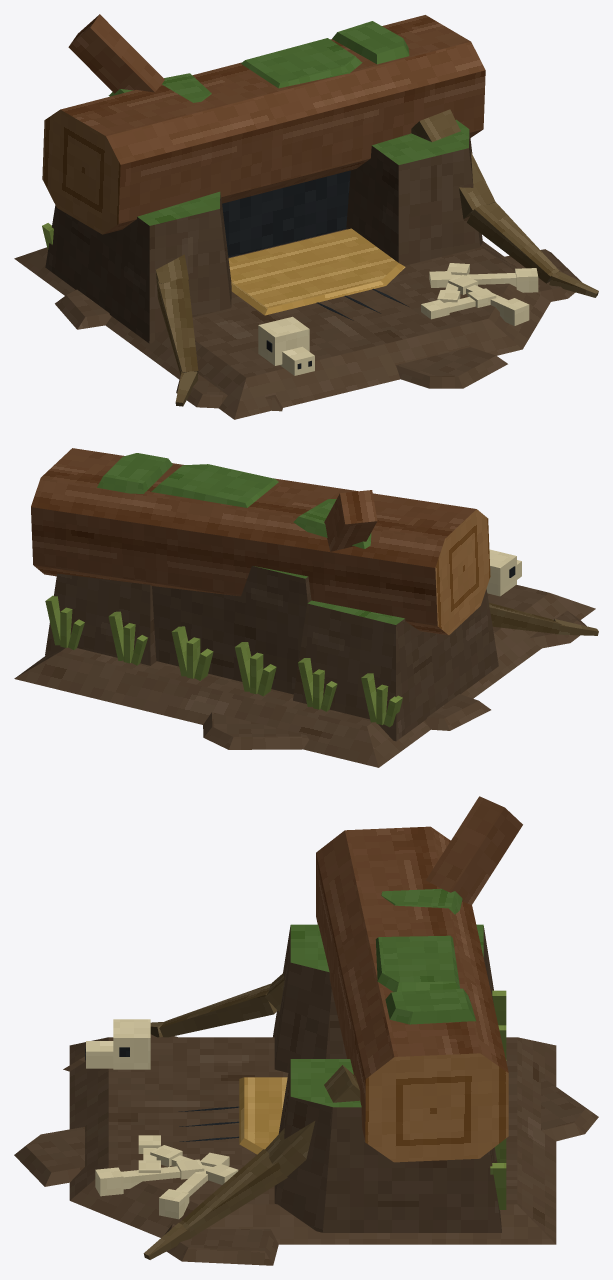
The model's file is worg_lair_v2.glb.
3 renders of one model, top to bottom at view 1: azimuth 30°, elevation 25°; view 2: azimuth 150°, elevation 25°; view 3: azimuth 270°, elevation 25°, orthographic. The views are drawn at different scales.
Parts seen in each view (by area): view 1: Model; view 2: Model; view 3: Model.
Part boxes in pixels (x1=…): Model: x1=14, y1=14, x2=598, y2=419; Model: x1=14, y1=448, x2=598, y2=767; Model: x1=14, y1=796, x2=598, y2=1265.
Size of the model in its own units: 1.27 by 0.6798 by 1.33.
1 material, 1 textured.
